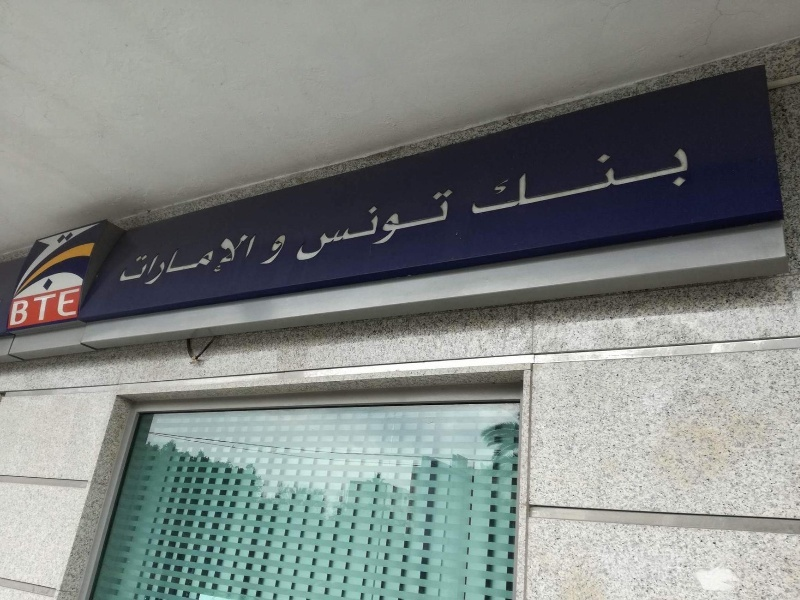text: (481, 139, 496, 221), (497, 139, 512, 221), (513, 139, 528, 221), (529, 139, 544, 221), (545, 139, 560, 221), (561, 139, 576, 221), (577, 139, 592, 221), (593, 139, 608, 221), (609, 139, 624, 221), (625, 139, 640, 221), (641, 139, 656, 221), (657, 139, 672, 221), (673, 139, 688, 221), (305, 182, 320, 263), (321, 182, 336, 263), (337, 182, 352, 263), (353, 182, 368, 263), (369, 182, 384, 263), (385, 182, 400, 263), (401, 182, 416, 263), (417, 182, 432, 263), (433, 182, 448, 263), (129, 230, 144, 292), (145, 230, 160, 292), (161, 230, 176, 292), (177, 230, 192, 292), (193, 230, 208, 292), (209, 230, 224, 292), (225, 230, 240, 292), (241, 230, 256, 292), (469, 139, 480, 221), (294, 182, 304, 263), (449, 182, 459, 263), (17, 288, 32, 327), (33, 288, 48, 327), (49, 288, 64, 327), (65, 288, 80, 327), (273, 232, 288, 269), (121, 230, 128, 292), (689, 139, 694, 221), (257, 230, 260, 292), (268, 232, 272, 269), (13, 288, 16, 327), (81, 288, 82, 327)
